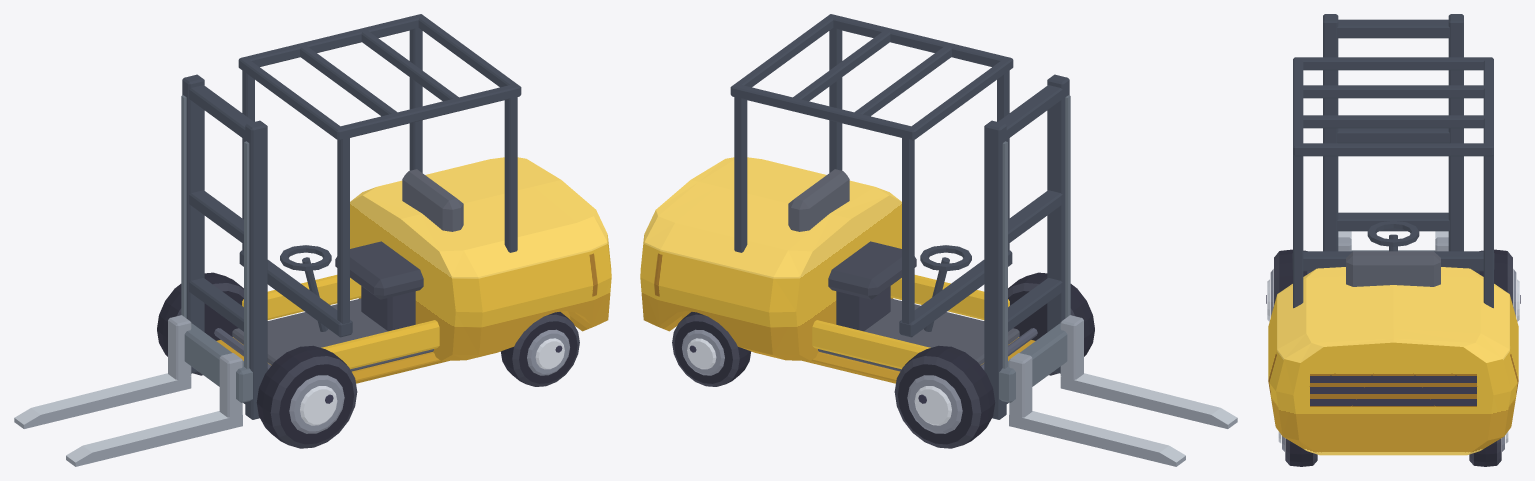
3 views of the same model, side by side, from view 1: azimuth 30°, elevation 25°; view 2: azimuth 150°, elevation 25°; view 3: azimuth 270°, elevation 25° (orthographic).
Parts seen in each view (by area): view 1: Body_static, Wheel_FL_tire_hub, Wheel_RL_tire_hub, Wheel_FR_tire_hub; view 2: Body_static, Wheel_FR_tire_hub, Wheel_RR_tire_hub, Wheel_FL_tire_hub; view 3: Body_static, Wheel_FL_tire_hub, Wheel_FR_tire_hub, Wheel_RL_tire_hub, Wheel_RR_tire_hub.
Part boxes in pixels (left/top/right/bottom): Body_static: left=14, top=14, right=611, bottom=466; Wheel_FL_tire_hub: left=256, top=345, right=357, bottom=448; Wheel_RL_tire_hub: left=500, top=312, right=579, bottom=386; Wheel_FR_tire_hub: left=157, top=272, right=243, bottom=375; Body_static: left=640, top=14, right=1237, bottom=466; Wheel_FR_tire_hub: left=894, top=345, right=995, bottom=448; Wheel_RR_tire_hub: left=672, top=312, right=751, bottom=386; Wheel_FL_tire_hub: left=1008, top=272, right=1094, bottom=375; Body_static: left=1268, top=14, right=1518, bottom=455; Wheel_FL_tire_hub: left=1266, top=249, right=1311, bottom=321; Wheel_FR_tire_hub: left=1475, top=249, right=1520, bottom=321; Wheel_RL_tire_hub: left=1278, top=431, right=1317, bottom=466; Wheel_RR_tire_hub: left=1469, top=431, right=1508, bottom=466.
Bounding box in the file's own units: 64.35 × 37.39 × 27.44.
Materials: 1 (1 with a texture image).
